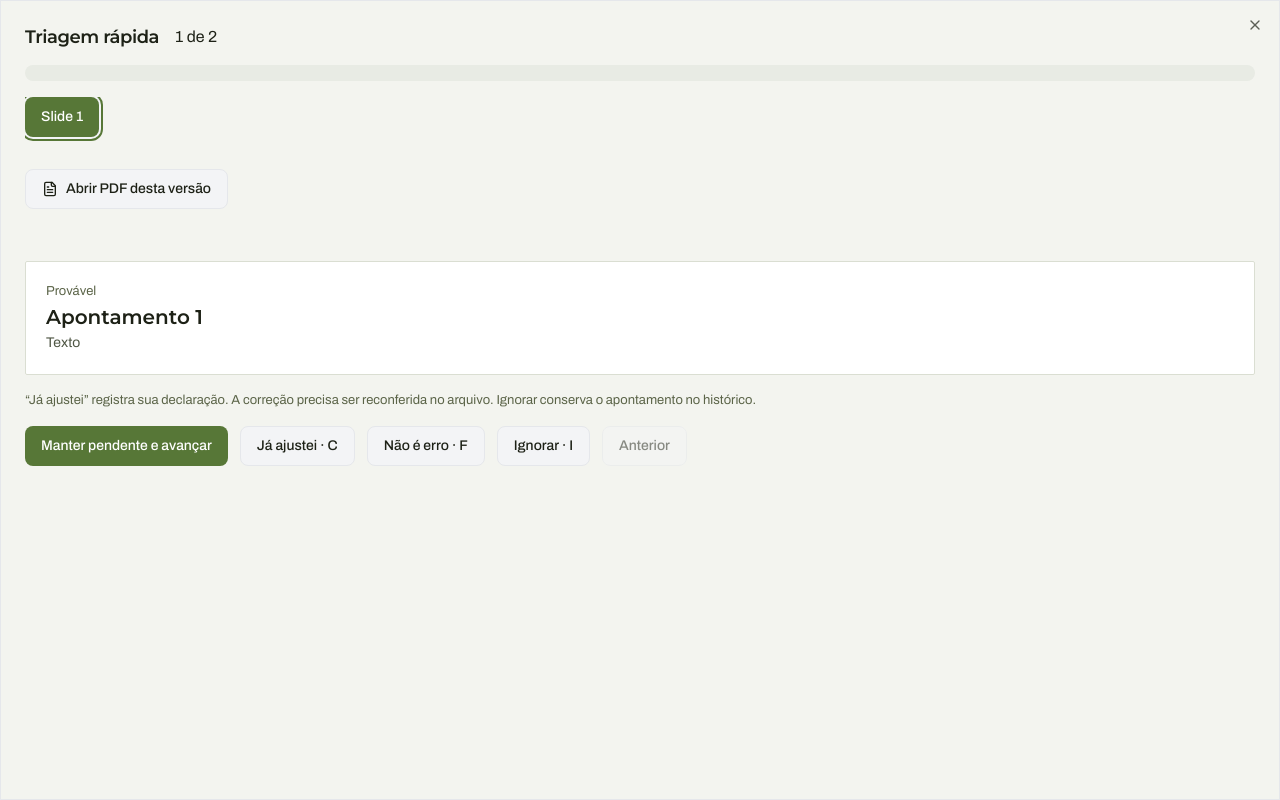
Scenario: revisitar item não infla o progresso e Enter não decide implicitamente
Press Enter
Expected: the heading "Apontamento 1" is shown, [46,304,203,328]
Click the button "Manter pendente e avançar" at (126, 446), box [25,426,228,466]
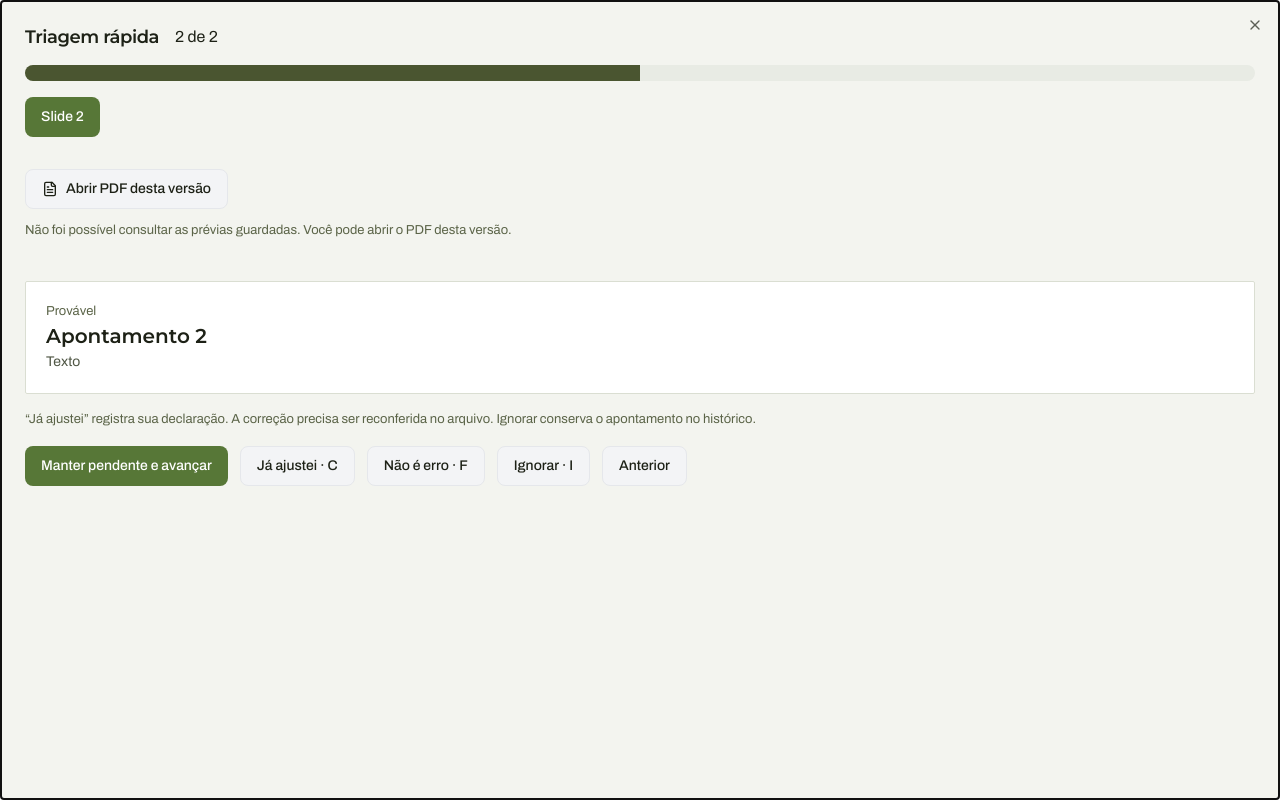
Result: the heading "Apontamento 2" is shown at [46,324,207,348]
Click the button "Anterior" at (644, 466), box [602,446,687,486]
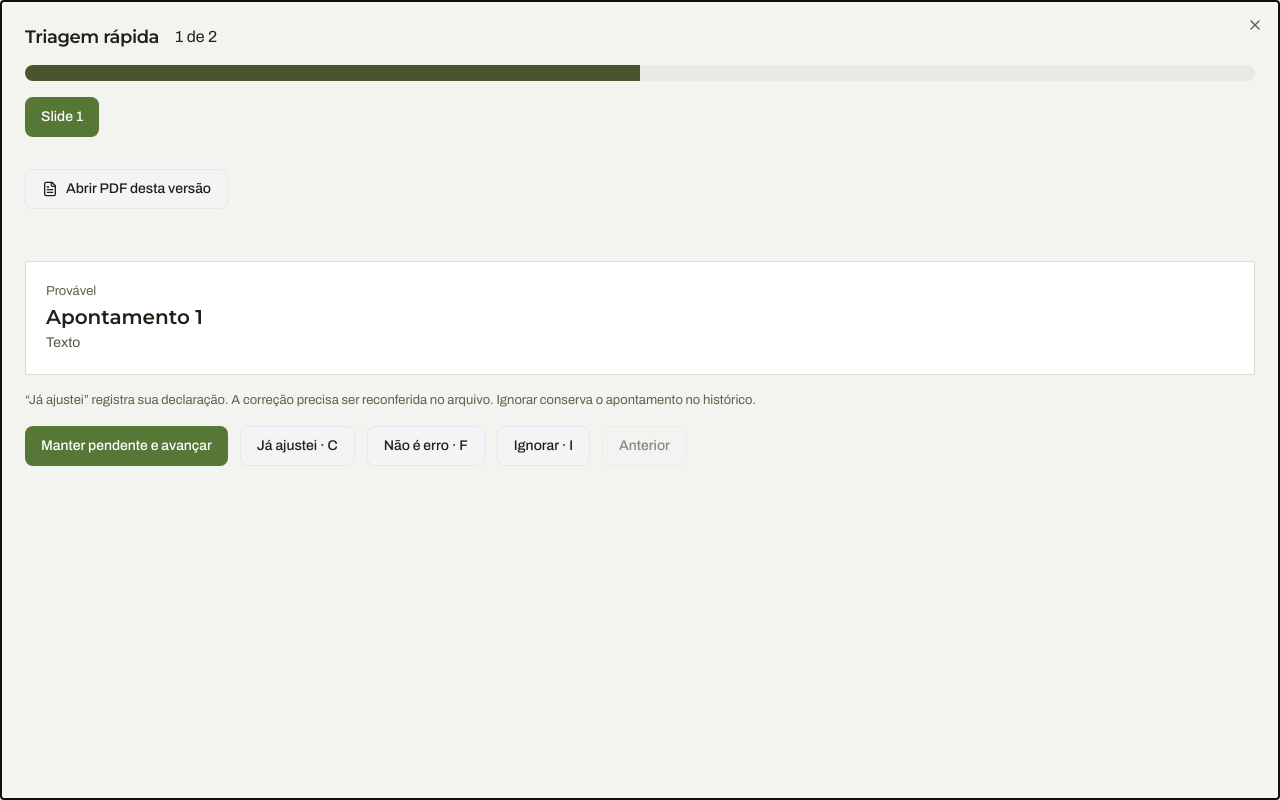
Click the button "Manter pendente e avançar" at (126, 446), box [25,426,228,466]
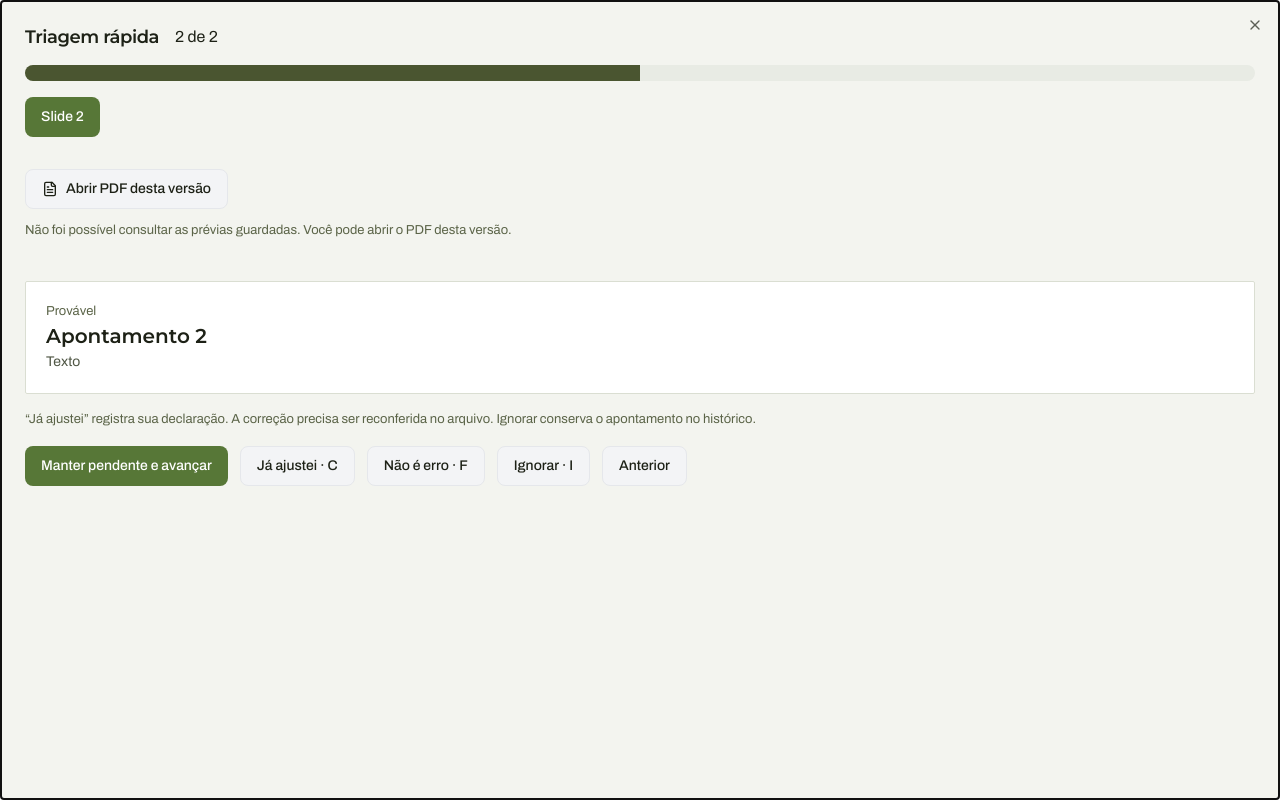
Result: the progress indicator has attribute aria-label="1 de 2 apontamentos percorridos" at [25,65,1255,81]
